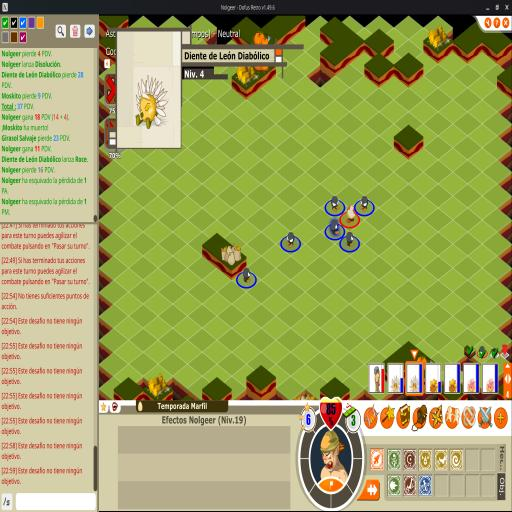Enemigos: (330, 218, 340, 236), (286, 231, 296, 249), (242, 266, 252, 284), (331, 195, 341, 212), (346, 231, 356, 248), (360, 195, 368, 212)
Personaje: (346, 204, 356, 224)
